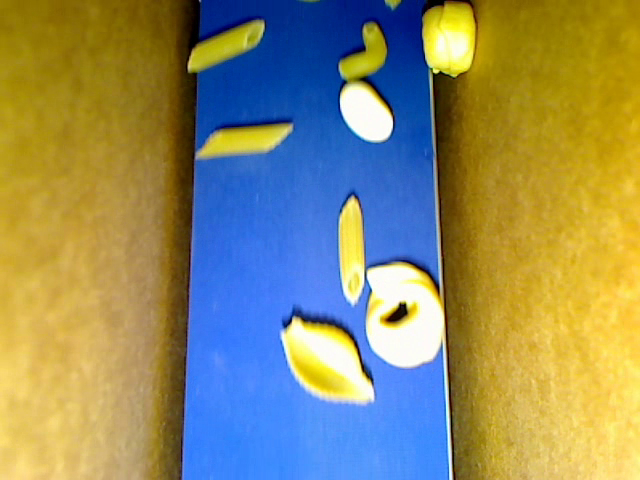elbow: (337, 24, 388, 81)
penne: (188, 20, 264, 72), (194, 124, 293, 158), (337, 191, 364, 308)
shell: (279, 315, 376, 406)
tortellini: (363, 259, 445, 368)
